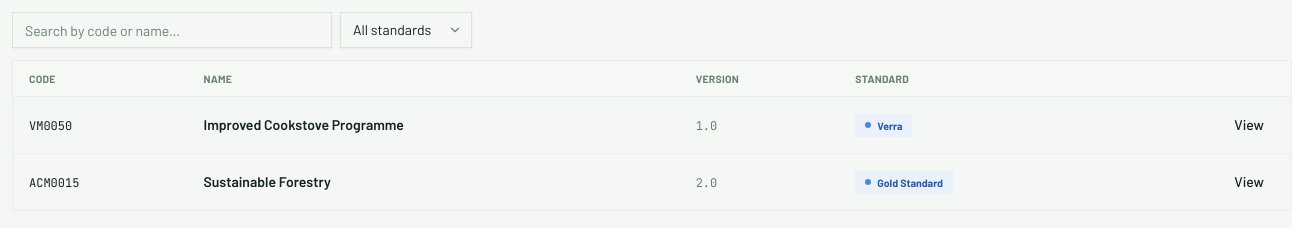
Scenario: MethodologyTable › shows an empty message when no rows match
Step 1. Type "nonexistent" into the field with placeholder "Search by code or name…" → (172, 30), box [12,12,332,48]
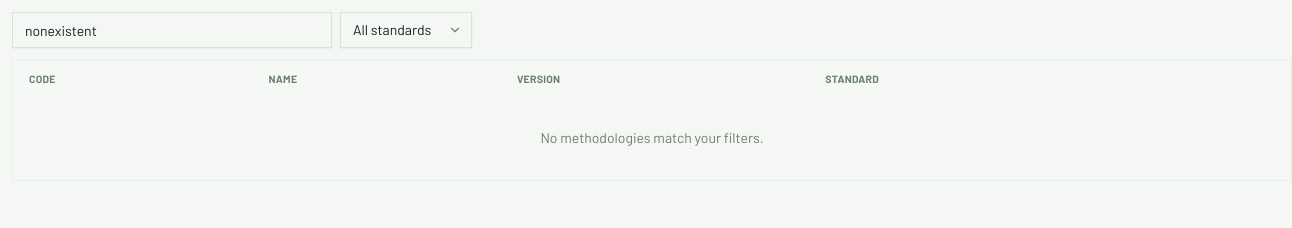
Now the text "No methodologies match your filters." is shown, box [13,96,1291,180]
